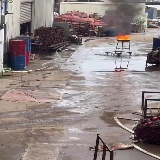fire: (116, 33, 130, 40)
